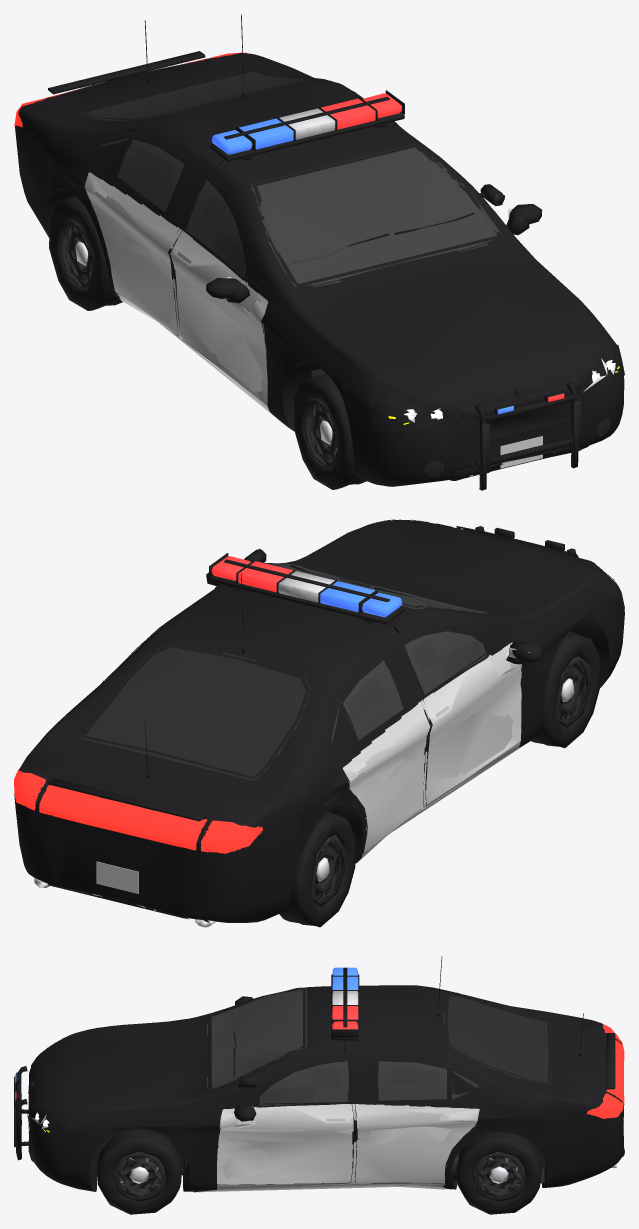
Rendered from patrolSedan-lod1.glb.
3 views of the same model, one above another, from view 1: azimuth 30°, elevation 25°; view 2: azimuth 150°, elevation 25°; view 3: azimuth 270°, elevation 25° (orthographic). The views are drawn at different scales.
Visible parts, largest first — view 1: Body, HoodSkin, Body_Lining, Body_Trim, Panel_RR_Trim, Panel_FR_Trim, Panel_FR, Wheel_FR_Tyre, TrunkSkin, Wheel_RR_Tyre, Window_FR, Window_RR (+13 smaller); view 2: Body, HoodSkin, TrunkSkin, Panel_RR_Trim, Panel_FR_Trim, Body_Lining, Body_Trim, TrunkSkin_Trim, Panel_FR, Wheel_RR_Tyre, Wheel_FR_Tyre, Window_FR (+14 smaller); view 3: Body, HoodSkin, Body_Lining, Panel_FL_Trim, Panel_RL_Trim, Body_Trim, Wheel_FL_Tyre, Wheel_RL_Tyre, Panel_RL, TrunkSkin, Window_FL, Window_RL (+10 smaller).
Boxes of the visible parts, box(x1,y1,x2,y2) form: Body: box(15, 53, 624, 486); HoodSkin: box(298, 239, 594, 418); Body_Lining: box(91, 72, 583, 345); Body_Trim: box(14, 52, 624, 480); Panel_RR_Trim: box(84, 129, 204, 335); Panel_FR_Trim: box(170, 172, 268, 405); Panel_FR: box(175, 231, 266, 391); Wheel_FR_Tyre: box(293, 374, 366, 489); TrunkSkin: box(51, 59, 242, 109); Wheel_RR_Tyre: box(49, 196, 122, 310); Window_FR: box(186, 180, 246, 278); Window_RR: box(117, 137, 184, 212); Body: box(14, 520, 624, 922); HoodSkin: box(298, 520, 594, 614); TrunkSkin: box(38, 745, 241, 863); Panel_RR_Trim: box(323, 642, 430, 853); Panel_FR_Trim: box(399, 625, 522, 805); Body_Lining: box(82, 536, 492, 778); Body_Trim: box(14, 523, 624, 919); TrunkSkin_Trim: box(37, 744, 243, 865); Panel_FR: box(424, 635, 519, 780); Wheel_RR_Tyre: box(279, 811, 355, 927); Wheel_FR_Tyre: box(531, 631, 600, 748); Window_FR: box(404, 631, 486, 696); Body: box(28, 985, 623, 1191); HoodSkin: box(29, 1017, 206, 1109); Body_Lining: box(207, 991, 550, 1105); Panel_FL_Trim: box(216, 1056, 354, 1184); Panel_RL_Trim: box(354, 1055, 482, 1184); Body_Trim: box(27, 987, 624, 1192); Wheel_FL_Tyre: box(96, 1128, 182, 1214); Wheel_RL_Tyre: box(456, 1132, 541, 1214); Panel_RL: box(355, 1059, 480, 1145); TrunkSkin: box(558, 1026, 623, 1116); Window_FL: box(259, 1061, 348, 1105); Window_RL: box(378, 1061, 448, 1100).
Size of the model in its own units: 2.41 by 2 by 5.18.
